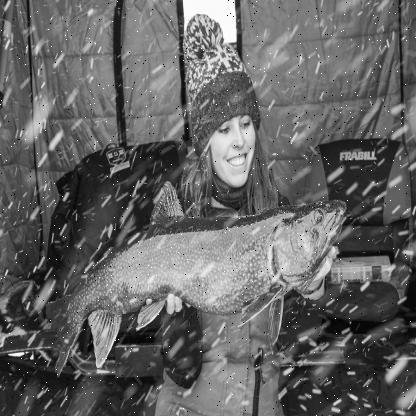fish: (43, 182, 346, 374)
